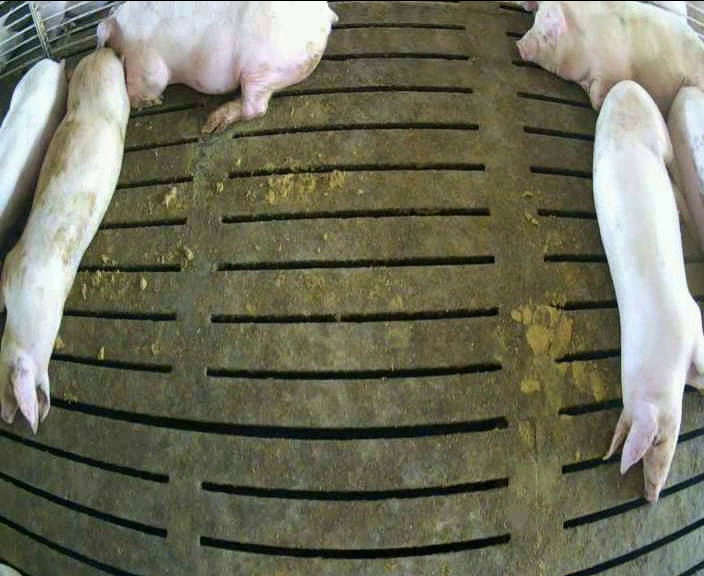pig: (0, 48, 129, 431), (593, 80, 703, 501), (97, 2, 336, 133), (514, 1, 703, 113), (0, 59, 66, 257)
